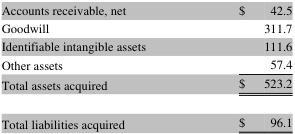table: (0, 1, 291, 131)
table column: (0, 1, 191, 131), (191, 1, 291, 131)
table row: (0, 73, 291, 102), (0, 102, 291, 131), (0, 54, 291, 73), (0, 18, 291, 36), (0, 36, 291, 54), (0, 1, 291, 18)
